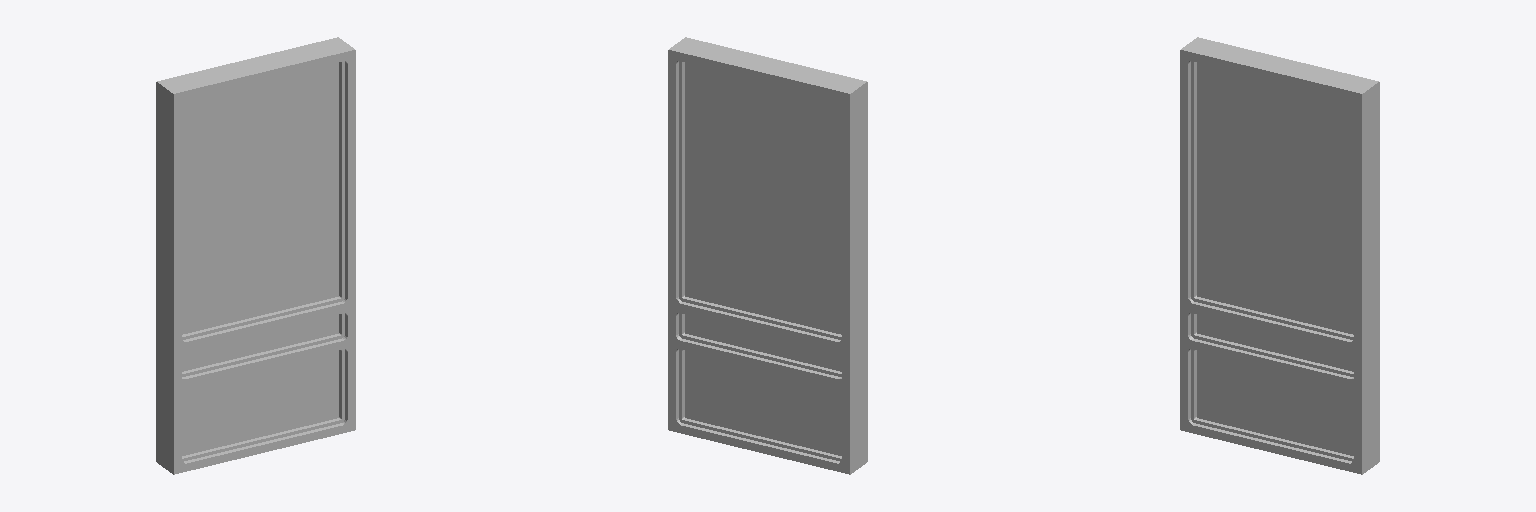
Rendered from Door Half5.obj.
3 views of the same model, side by side, from view 1: azimuth 30°, elevation 25°; view 2: azimuth 150°, elevation 25°; view 3: azimuth 330°, elevation 25° (orthographic).
Parts seen in each view (by area): view 1: Cube; view 2: Cube; view 3: Cube.
Part boxes in pixels (x1,y1,x2,y2): Cube: (156, 37, 355, 474); Cube: (668, 37, 867, 474); Cube: (1180, 37, 1379, 474).
Bounding box in the file's own units: 3 × 6 × 0.4872.